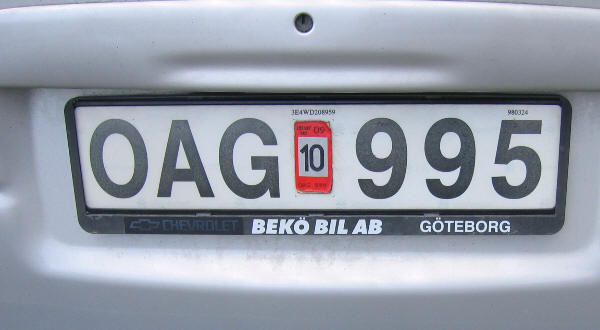license_plate: (70, 103, 562, 214)
